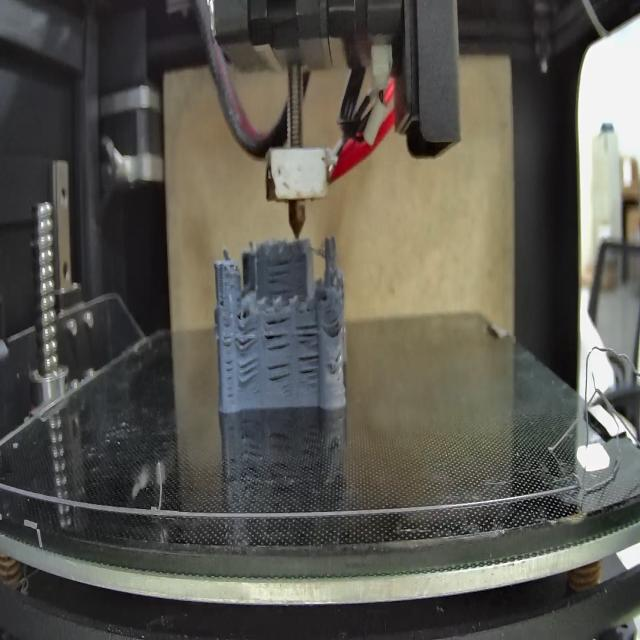cracks: (266, 258, 293, 302), (264, 316, 294, 352), (222, 321, 234, 403), (298, 352, 322, 389), (239, 354, 263, 390), (267, 362, 293, 394), (233, 322, 259, 352), (296, 318, 318, 346), (326, 309, 342, 339), (220, 294, 229, 310), (335, 352, 342, 371)
